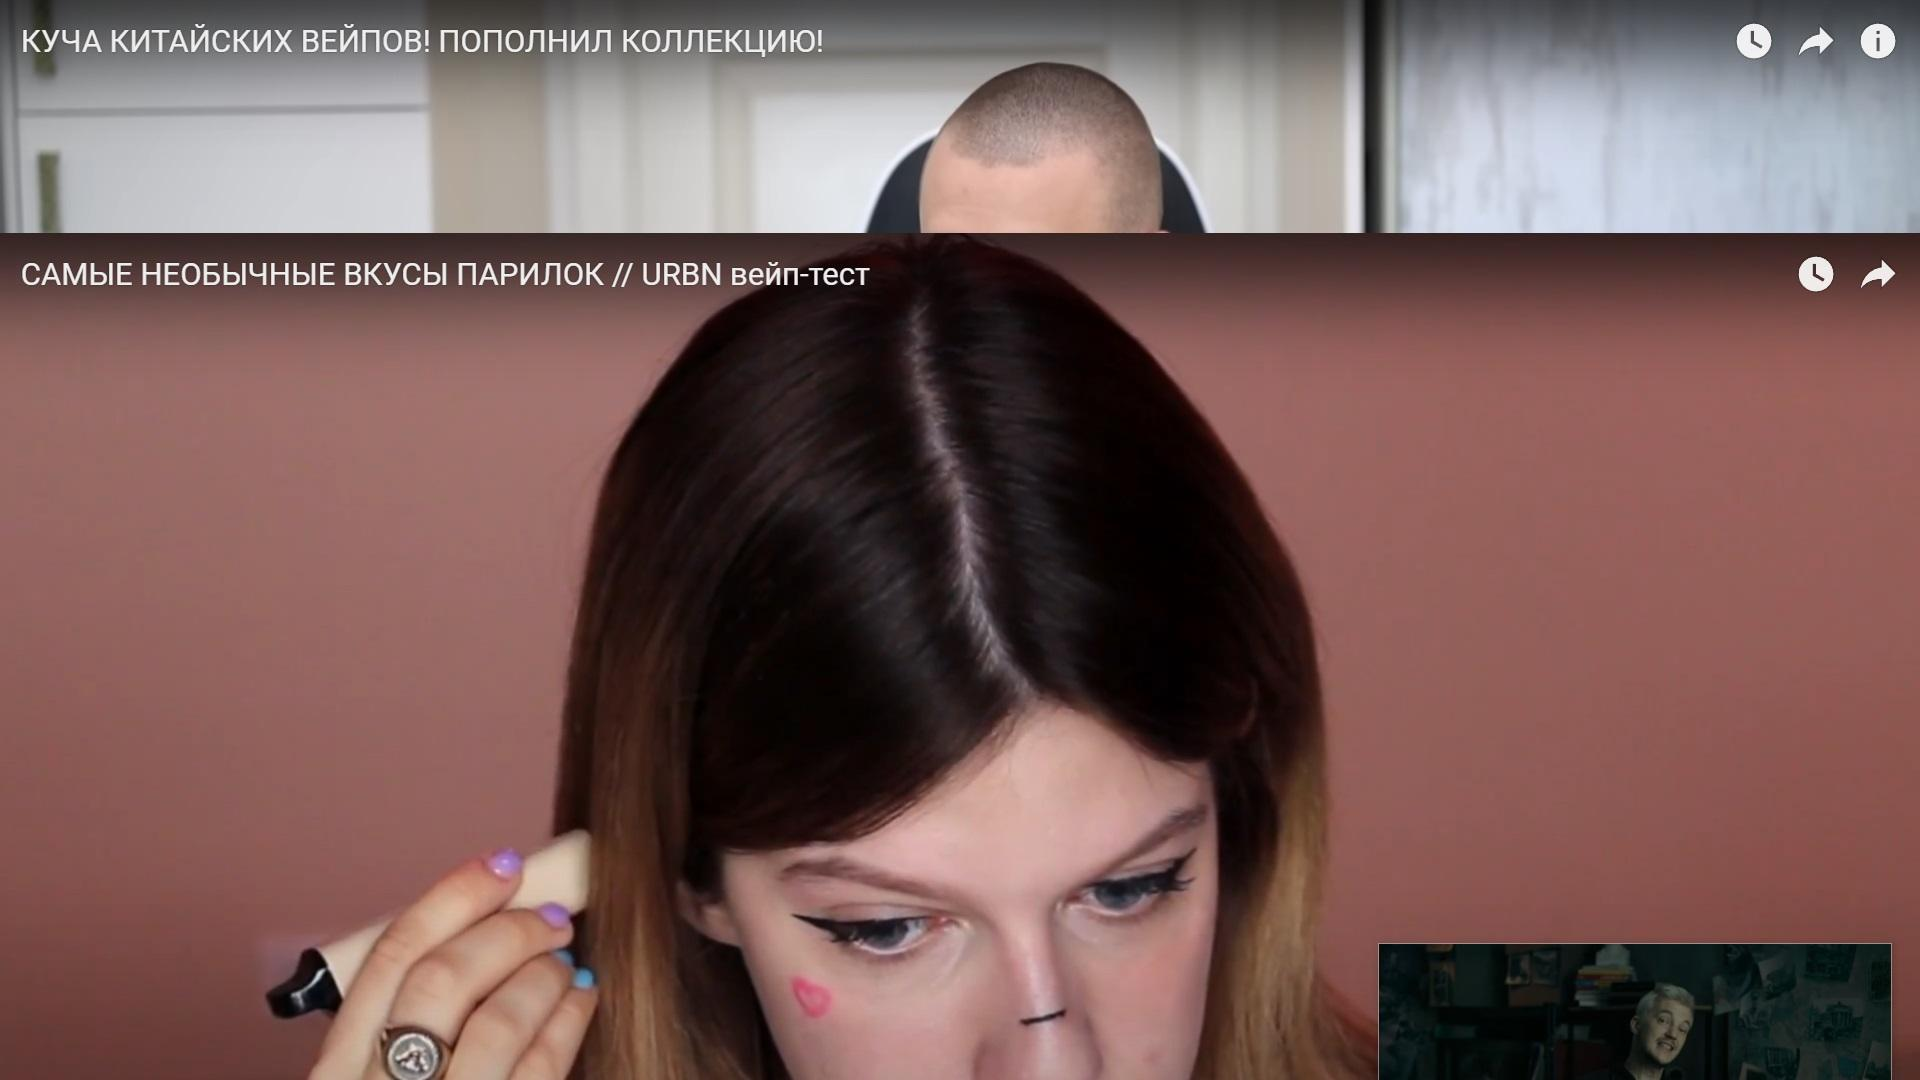Vape: (262, 828, 591, 1018)
